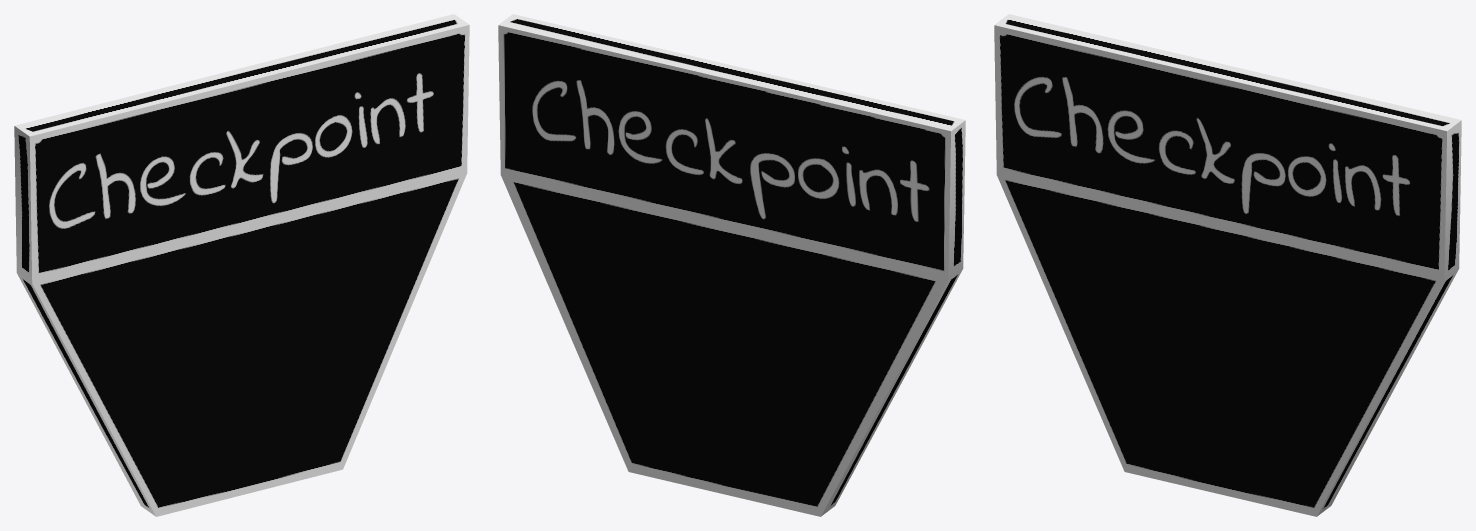
Rendered from Asset_003_Checkpoint1.fbx.
3 renders of one model, left to right at view 1: azimuth 30°, elevation 25°; view 2: azimuth 150°, elevation 25°; view 3: azimuth 330°, elevation 25°, orthographic.
Visible parts, largest first — view 1: Checkpoint; view 2: Checkpoint; view 3: Checkpoint.
Boxes of the visible parts, <box> form: Checkpoint: <box>14,14,469,516</box>; Checkpoint: <box>498,14,965,516</box>; Checkpoint: <box>994,14,1461,516</box>.
Bounding box in the file's own units: 5.64 × 5 × 0.4276.
